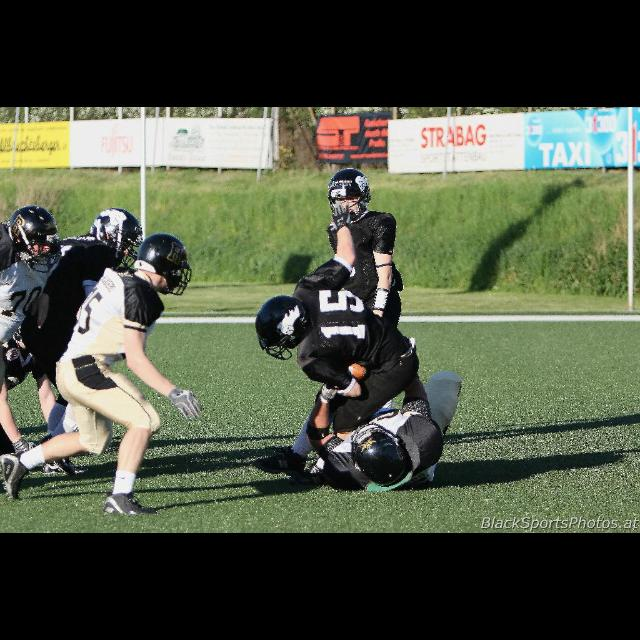Football: (347, 358, 368, 378)
